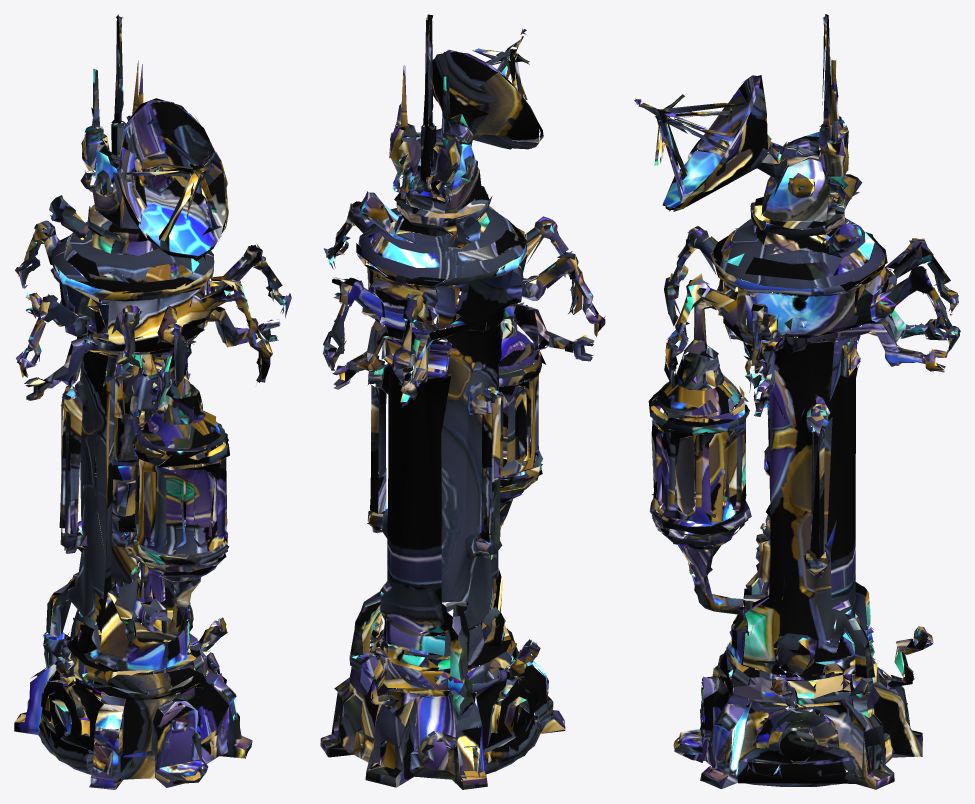
Rendered from tower_repairdrone_3d_LOD1.fbx.
The picture shows the model from 3 angles, left to right: view 1: azimuth 30°, elevation 25°; view 2: azimuth 150°, elevation 25°; view 3: azimuth 270°, elevation 25°; orthographic projection. The views are drawn at different scales.
Visible parts, largest first — view 1: Mesh1.0; view 2: Mesh1.0; view 3: Mesh1.0.
Boxes of the visible parts, x1,y1,x2,y2 form: Mesh1.0: [14, 14, 291, 789]; Mesh1.0: [320, 14, 605, 789]; Mesh1.0: [634, 14, 960, 789].
Size of the model in its own units: 49.85 by 125 by 50.26.
